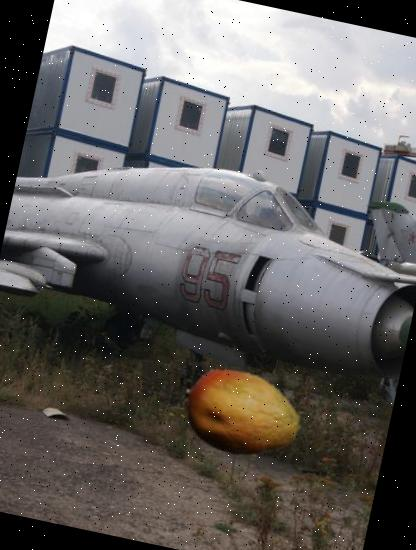Papaya: (172, 344, 314, 486)
